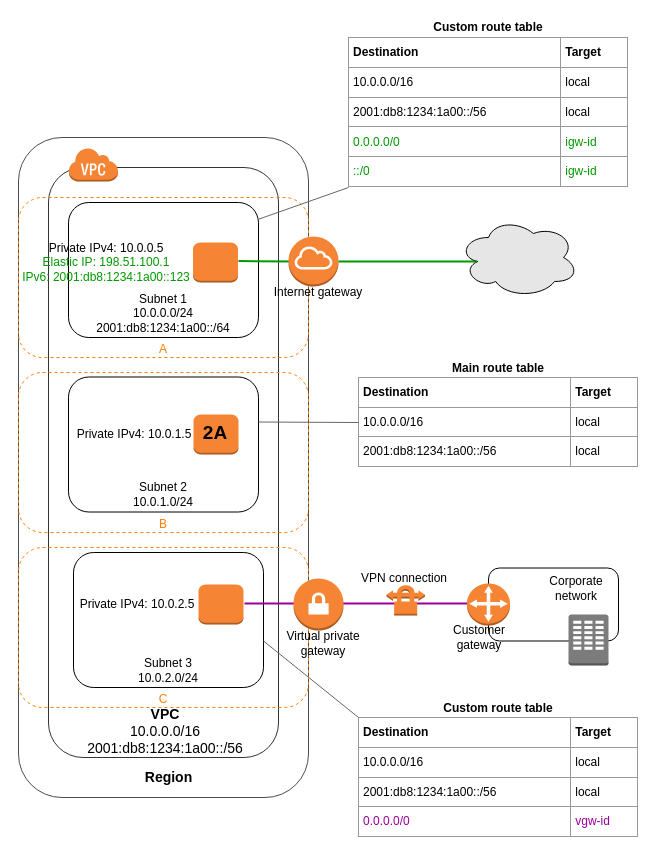
Image size: 655x854. Some labels were removed from this diagram. The centre of each missing label's shape, as x and y in pixels:
1A: the point at 215,262
3A: the point at 221,604
Internet: the point at 518,257
